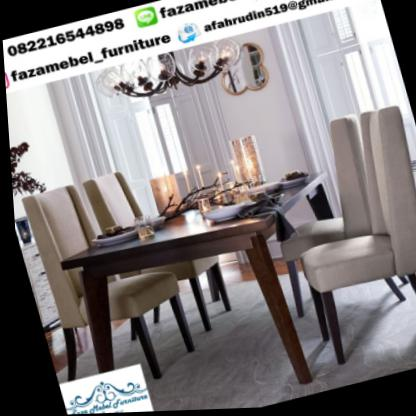Dining Table: (5, 83, 416, 381)
